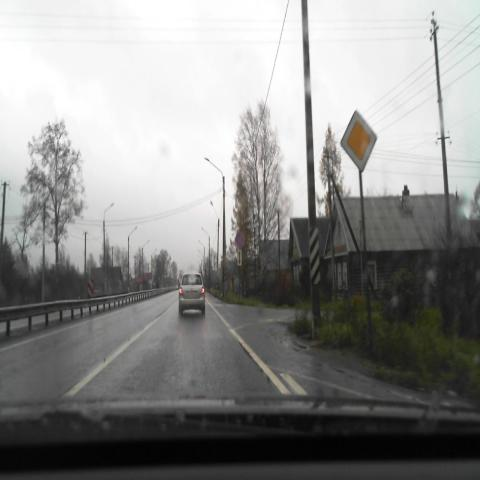2_1: (340, 110, 376, 172)
3_27: (235, 231, 245, 248)
